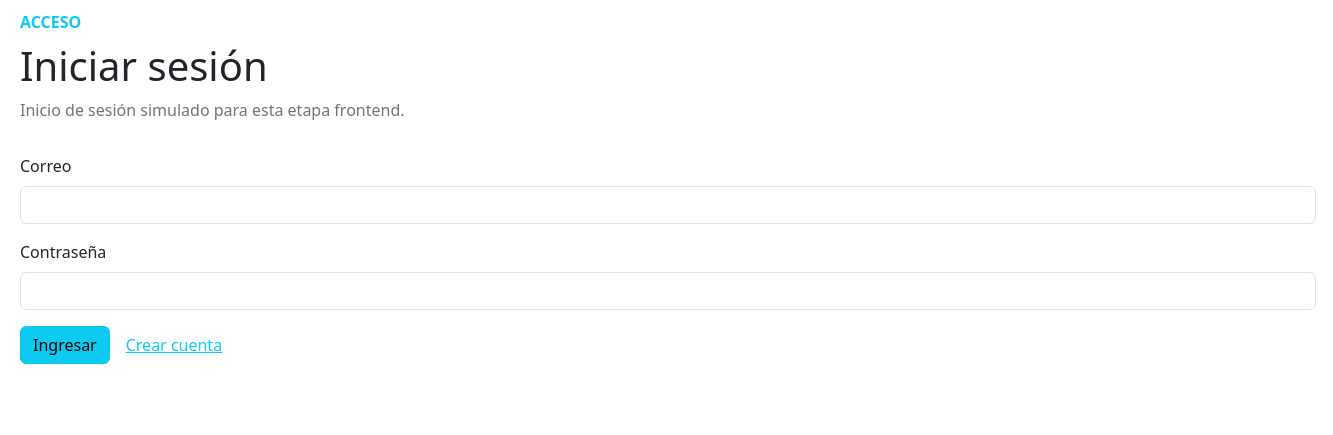
Scenario: inicio de sesión › muestra errores personalizados cuando el formulario está vacío
This screenshot has width=1333, height=435.
Click the button "Ingresar".
click(65, 345)  # box [20,326,110,364]
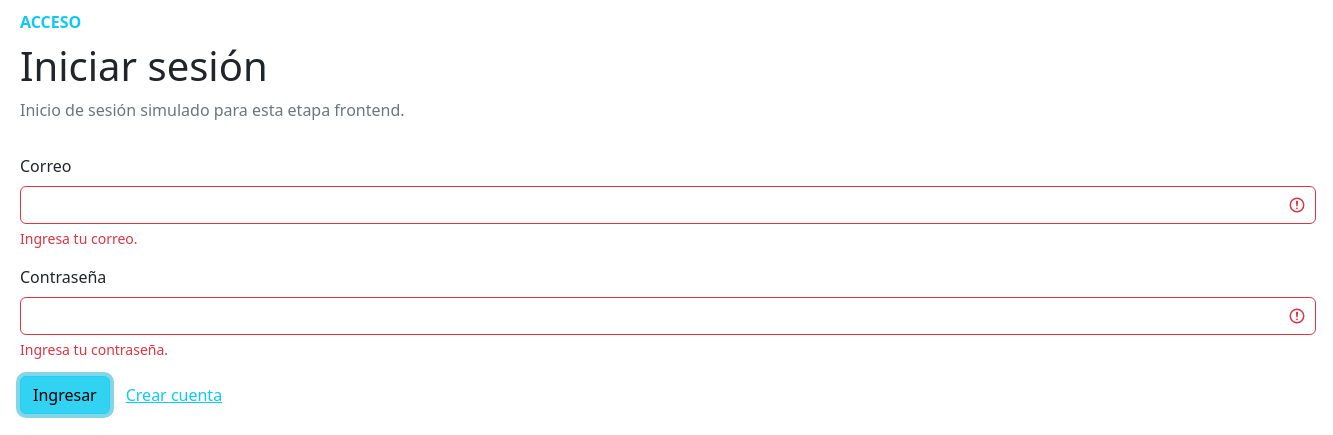
Expected: the text "Ingresa tu correo." is shown, [20,229,138,248]
Expected: the text "Ingresa tu contraseña." is shown, [20,340,168,359]
